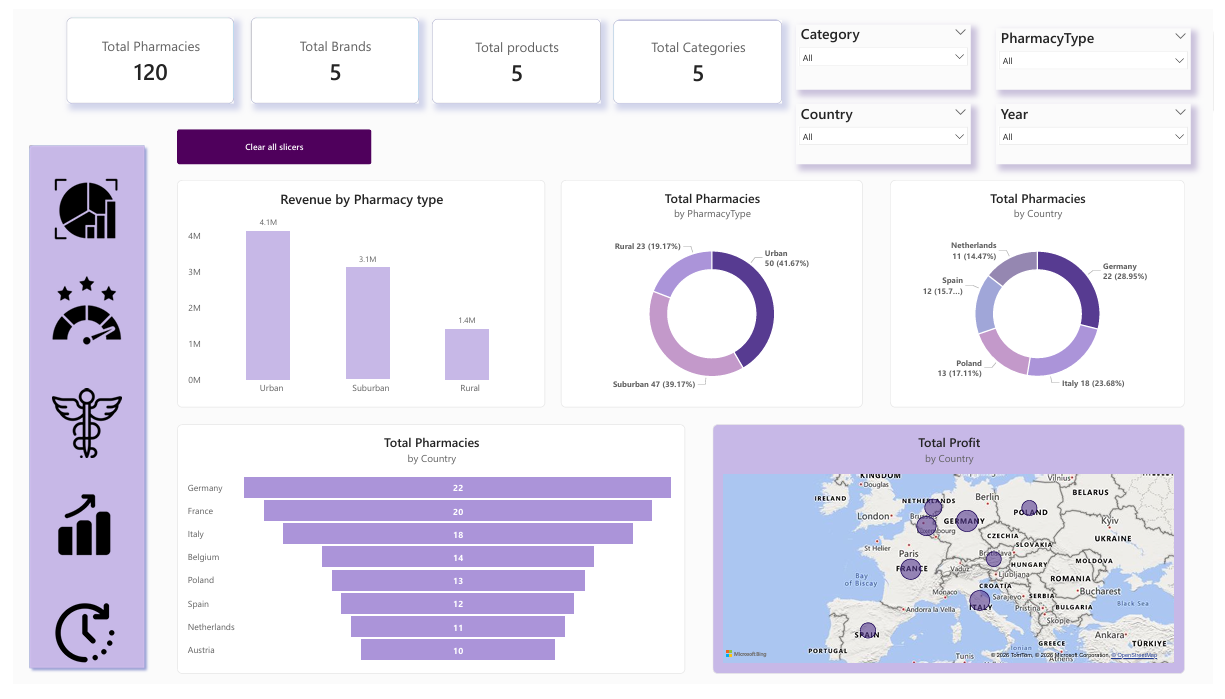

This screenshot's page, from the dashboard's own definition file:
{"tool":"powerbi","page":{"name":"Pharmacy Analysis","canvas":[1920,1080],"ordinal":2},"visuals":[{"type":"cardVisual","fields":{"Data":["DimPharmacy.Total Pharmacies"]},"box":[84.4,12.3,267.6,137.9],"z":0},{"type":"cardVisual","fields":{"Data":["DimProduct.Total Brands"]},"box":[378.7,12.3,269.6,137.9],"z":1000},{"type":"cardVisual","fields":{"Data":["DimProduct.Total products"]},"box":[669,14.4,269.6,135.8],"z":2000},{"type":"cardVisual","fields":{"Data":["DimProduct.Total Categories"]},"box":[959.2,16.5,269.6,133.8],"z":3000},{"type":"clusteredColumnChart","title":"Revenue by Pharmacy type","fields":{"Y":["Sum(FactSales.RevenueEUR)"],"Category":["DimPharmacy.PharmacyType"]},"box":[261.4,271.7,588.7,364.3],"z":4000},{"type":"map","fields":{"Category":["DimPharmacy.Country"],"Size":["FactSales.Total Profit"]},"box":[1117.7,662.8,755.4,399.3],"z":5000},{"type":"funnel","fields":{"Category":["DimPharmacy.Country"],"Y":["DimPharmacy.Total Pharmacies"]},"box":[261.4,662.8,813,399.3],"z":6000},{"type":"donutChart","fields":{"Category":["DimPharmacy.PharmacyType"],"Y":["DimPharmacy.Total Pharmacies"]},"box":[874.8,271.7,483.7,364.3],"z":7000},{"type":"donutChart","fields":{"Category":["DimPharmacy.Country"],"Y":["DimPharmacy.Total Pharmacies"]},"box":[1401.7,271.7,471.4,364.3],"z":8000},{"type":"slicer","fields":{"Values":["DimPharmacy.PharmacyType"]},"box":[1570.5,28.8,312.9,98.8],"z":9000},{"type":"slicer","fields":{"Values":["DimDate.Date.Variation.Date Hierarchy.Year"]},"box":[1570.5,150.3,312.9,96.7],"z":10000},{"type":"slicer","fields":{"Values":["DimProduct.Category"]},"box":[1251.5,22.6,279.9,105],"z":11000},{"type":"slicer","fields":{"Values":["DimPharmacy.Country"]},"box":[1251.5,150.3,279.9,96.7],"z":12000},{"type":"actionButton","box":[261.4,191.4,310.8,55.6],"z":13000},{"type":"group","id":"g1","title":"Group 1","box":[16.5,207.9,201.7,854.2],"z":14000},{"type":"shape","box":[16.5,207.9,201.7,854.2],"z":16500,"group":"g1"},{"type":"image","box":[45.3,422,142,117.3],"z":17005,"group":"g1"},{"type":"image","box":[43.3,944.8,140,102.9],"z":17505,"group":"g1"},{"type":"image","box":[61.8,588.7,111.1,144.1],"z":18005,"group":"g1"},{"type":"image","box":[59.7,255.2,113.2,125.6],"z":18505,"group":"g1"},{"type":"image","box":[41.2,767.8,142,111.1],"z":19005,"group":"g1"}]}

Visuals, with their boxes in screenshot pixels (x1, y1, x2, y2), scaled from the page's 1920x1080 canvas onto the 1225x699 screenshot:
cardVisual - DimPharmacy.Total Pharmacies: box(54, 8, 225, 97)
cardVisual - DimProduct.Total Brands: box(242, 8, 414, 97)
cardVisual - DimProduct.Total products: box(427, 9, 599, 97)
cardVisual - DimProduct.Total Categories: box(612, 11, 784, 97)
"Revenue by Pharmacy type" clusteredColumnChart: box(167, 176, 542, 412)
map - DimPharmacy.Country x FactSales.Total Profit: box(713, 429, 1195, 687)
funnel - DimPharmacy.Country x DimPharmacy.Total Pharmacies: box(167, 429, 685, 687)
donutChart - DimPharmacy.PharmacyType x DimPharmacy.Total Pharmacies: box(558, 176, 867, 412)
donutChart - DimPharmacy.Country x DimPharmacy.Total Pharmacies: box(894, 176, 1195, 412)
slicer - DimPharmacy.PharmacyType: box(1002, 19, 1202, 83)
slicer - DimDate.Date.Variation.Date Hierarchy.Year: box(1002, 97, 1202, 160)
slicer - DimProduct.Category: box(798, 15, 977, 83)
slicer - DimPharmacy.Country: box(798, 97, 977, 160)
actionButton: box(167, 124, 365, 160)
"Group 1" group: box(11, 135, 139, 687)
shape: box(11, 135, 139, 687)
image: box(29, 273, 120, 349)
image: box(28, 611, 117, 678)
image: box(39, 381, 110, 474)
image: box(38, 165, 110, 246)
image: box(26, 497, 117, 569)
